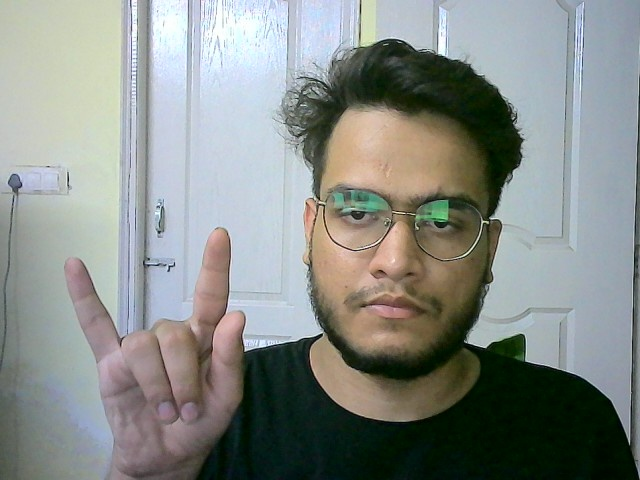I Love You: (56, 224, 260, 474)
